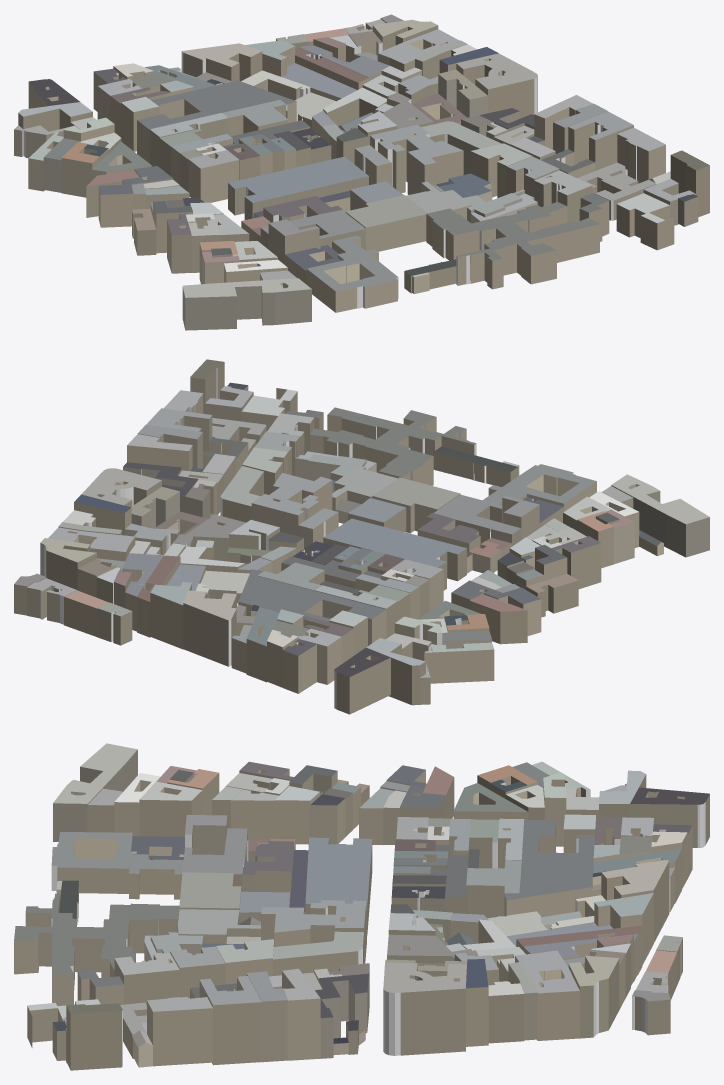
The picture shows the model from 3 angles, top to bottom: view 1: azimuth 30°, elevation 25°; view 2: azimuth 150°, elevation 25°; view 3: azimuth 270°, elevation 25°; orthographic projection. The views are drawn at different scales.
Parts seen in each view (by area): view 1: tuile; view 2: tuile; view 3: tuile.
Boxes of the visible parts, x1,y1,x2,y2 form: tuile: (14, 14, 709, 330); tuile: (14, 359, 709, 714); tuile: (14, 743, 709, 1070).
Bounding box in the file's own units: 282 × 29 × 282.
